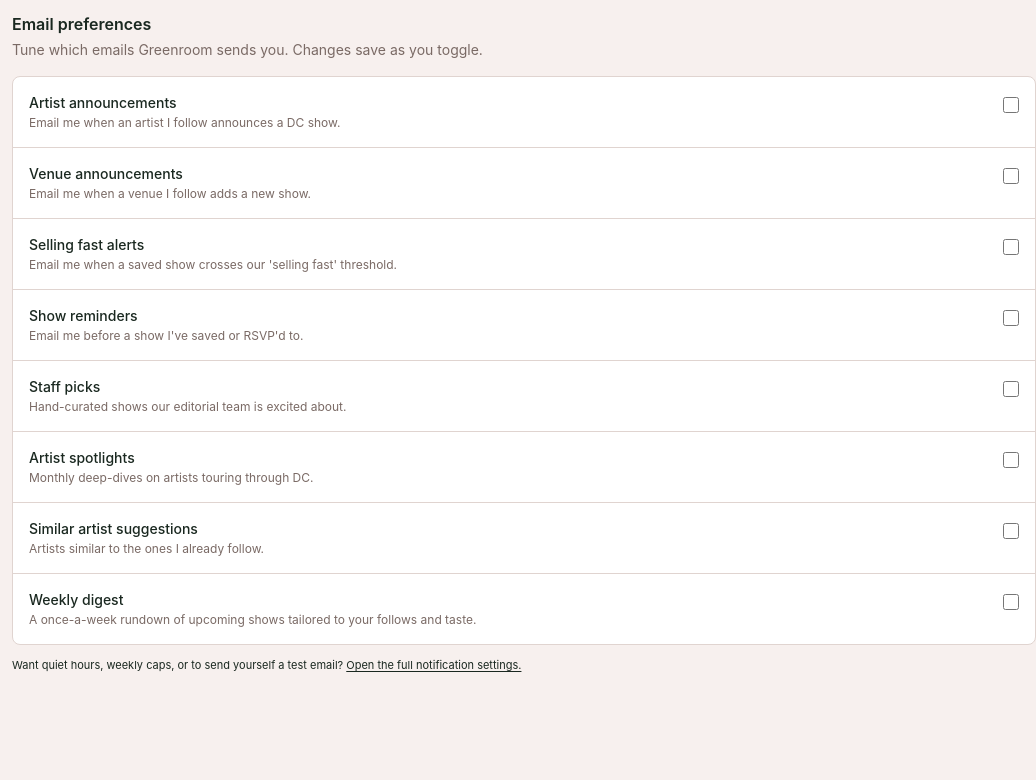
EmailPreferencesSection › reverts the toggle and surfaces an error when the API fails
What coordinates should you click on to do the following:
click the checkbox labelled "Weekly digest"
I would click on:
 (1011, 602)
Its box is [1003,594,1019,610].
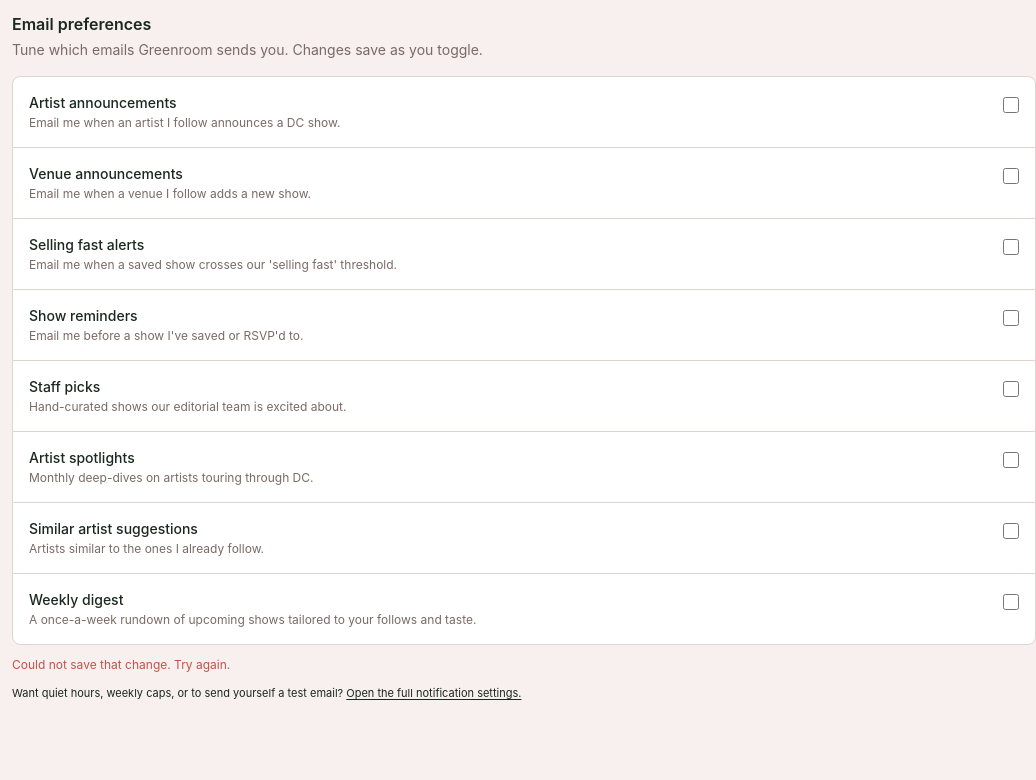
Check: the text "Could not save that change. Try again." is shown, box [12,657,230,672]
